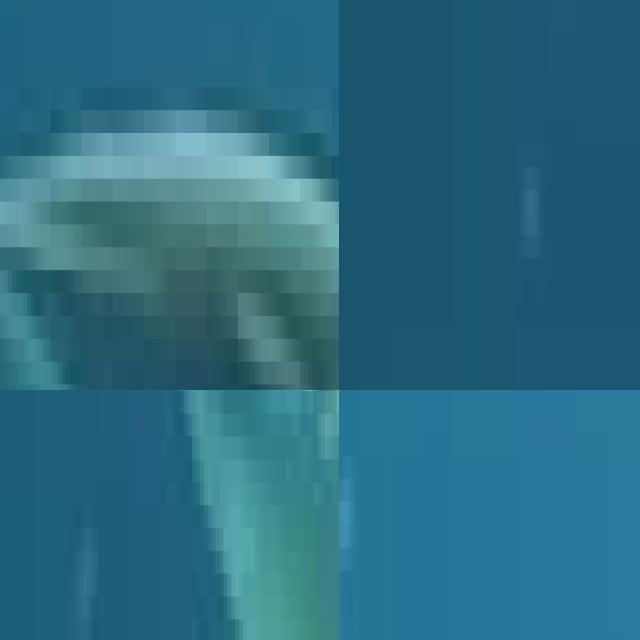fish: (0, 0, 339, 390), (126, 390, 339, 640)
